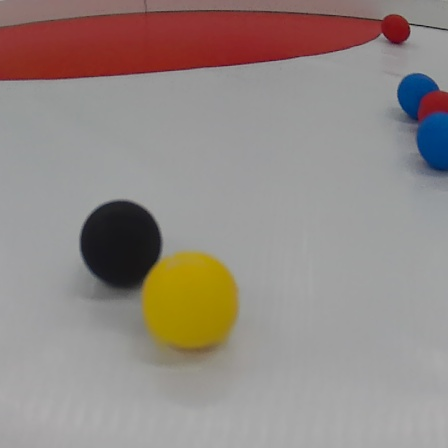black: (77, 198, 166, 288)
blue: (415, 112, 448, 173), (392, 74, 436, 116)
red: (380, 14, 414, 47), (421, 91, 448, 124)
red_base: (2, 5, 380, 73)
yellow: (141, 249, 240, 353)
